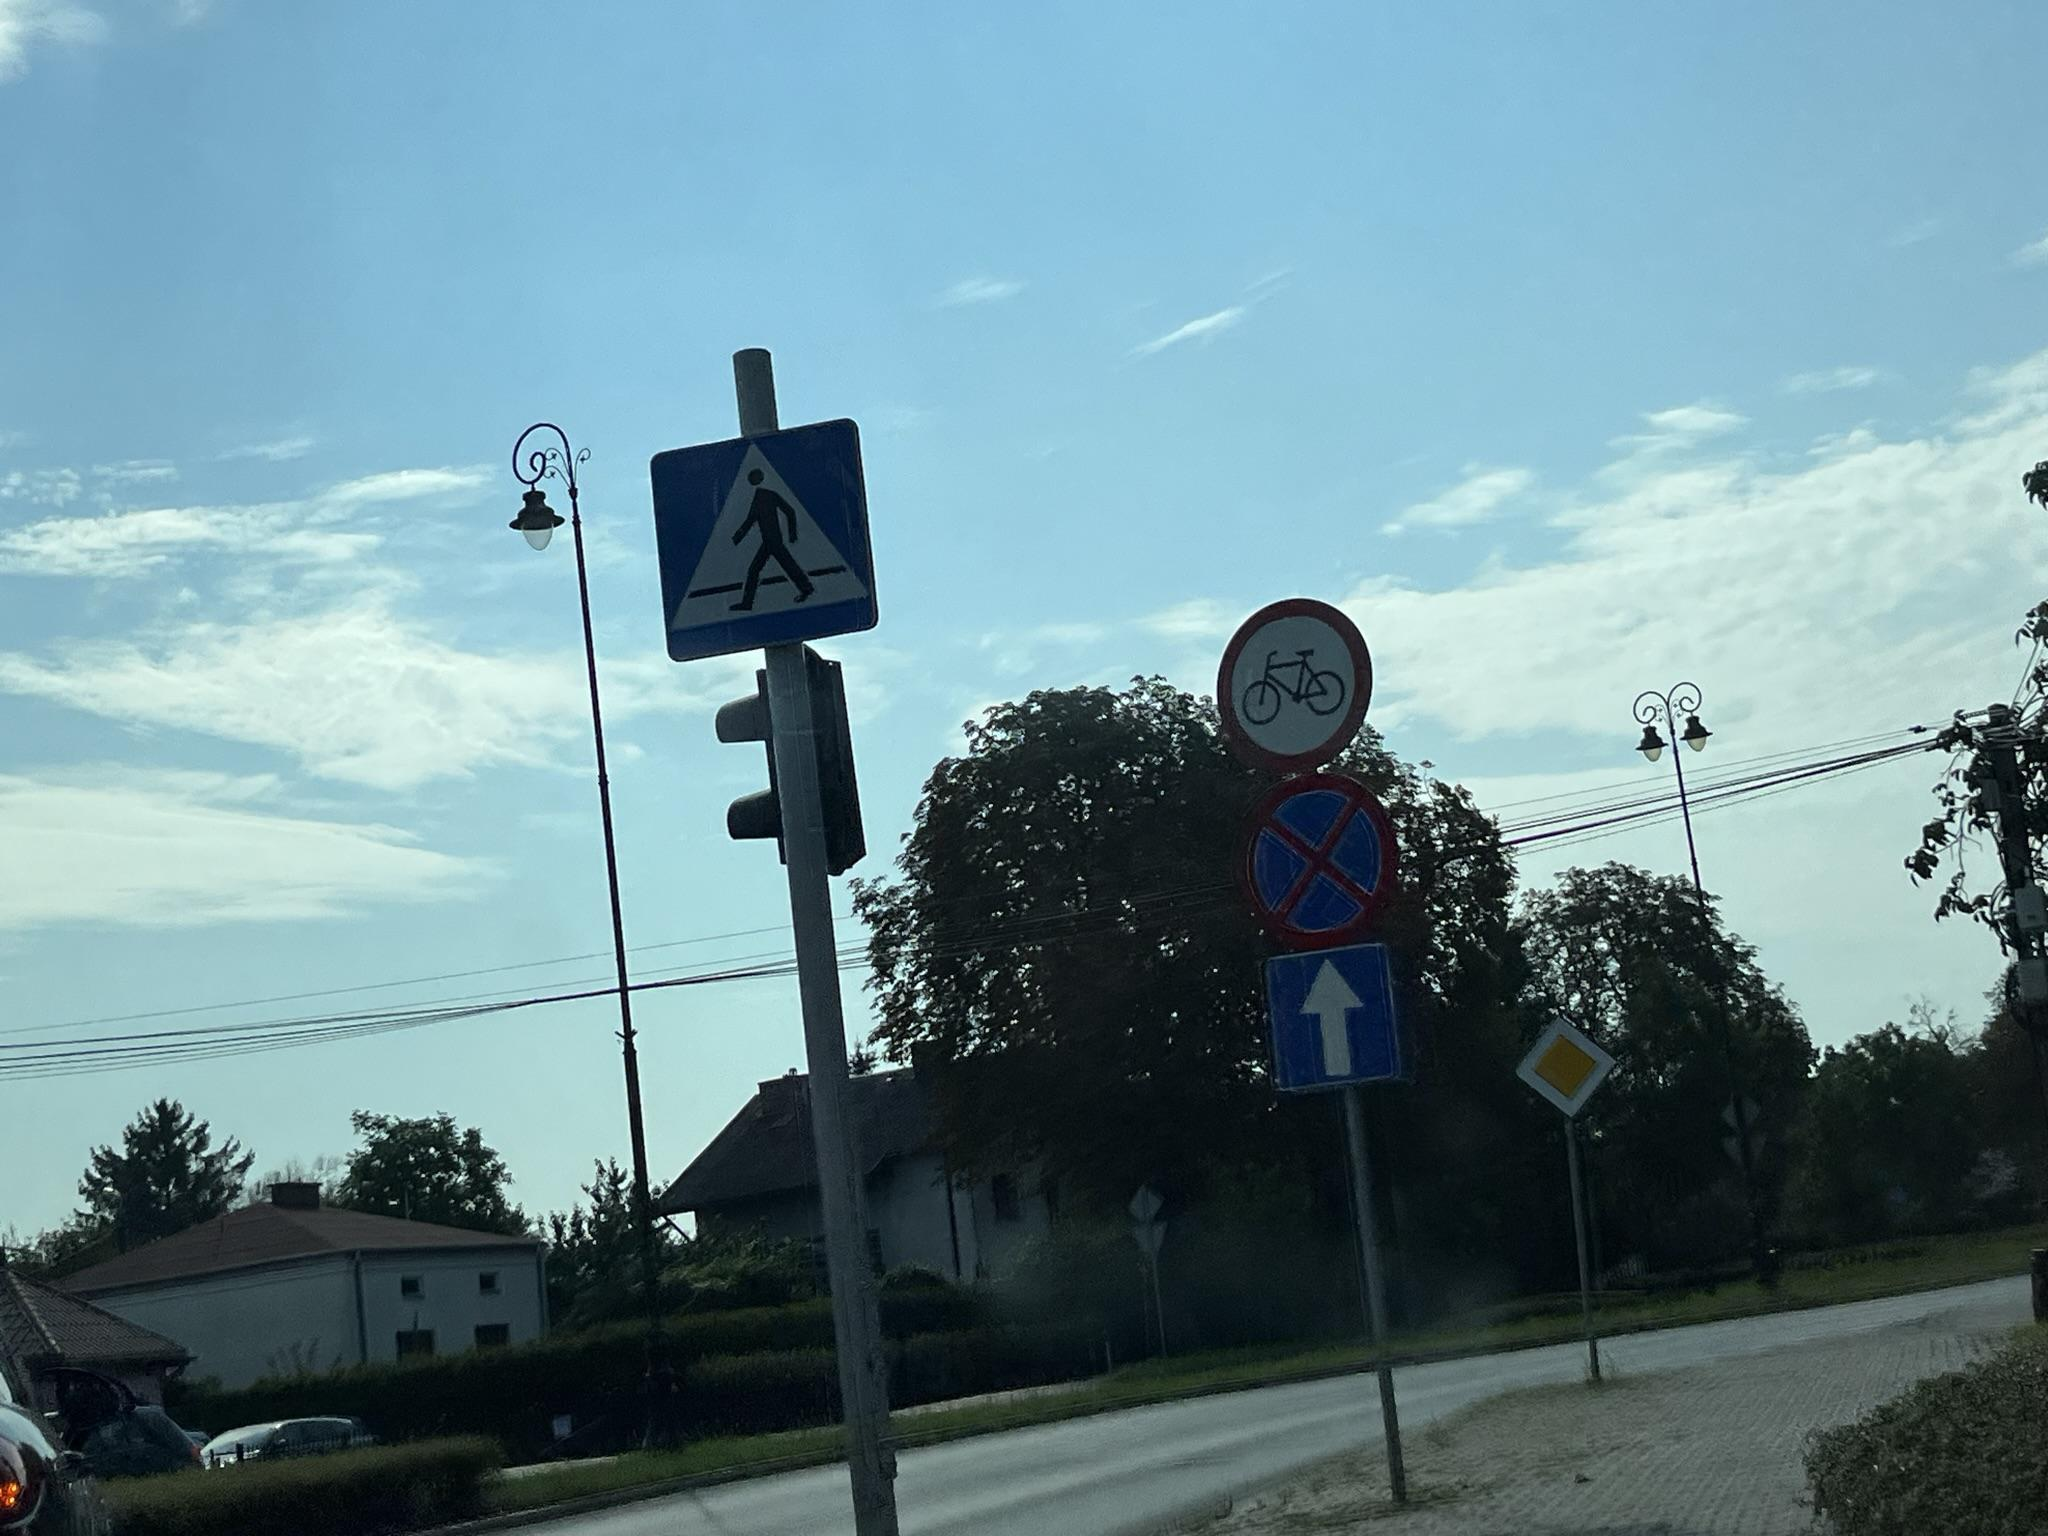information: (648, 416, 880, 662), (1263, 944, 1406, 1096), (1513, 1012, 1619, 1121)
prohibitory: (1237, 771, 1398, 949), (1214, 595, 1374, 773)
